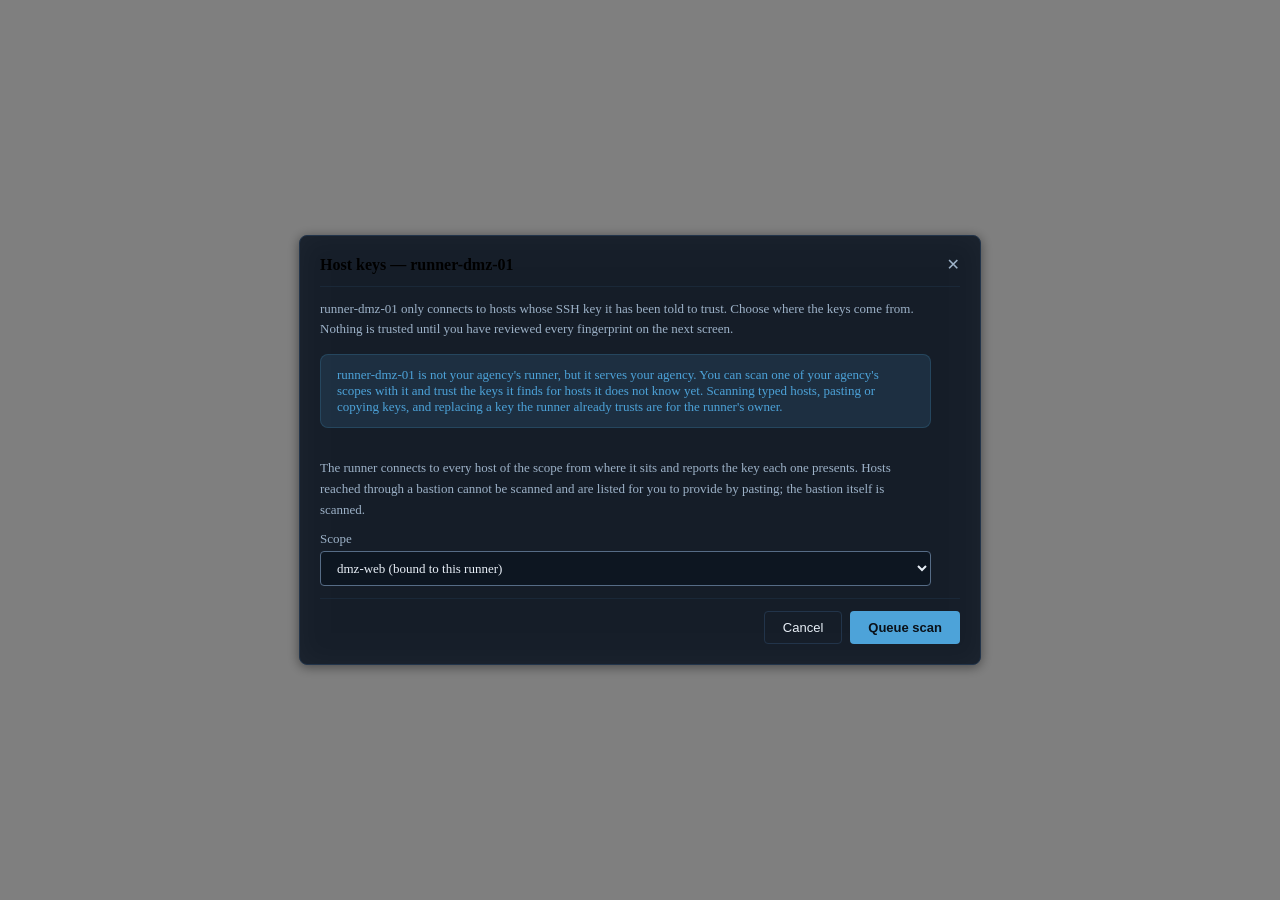
Test: the host keys dialog › in guest mode offers only a scope scan, and will not trust a key that replaces one
This screenshot has width=1280, height=900.
Expected: the text "is not your agency's runner, but it serves your agency" is shown, [337, 368, 879, 415]
Expected: the dropdown named "Scope to scan" shows "dmz-web (bound to this runner)", [320, 551, 931, 586]
Click the button "Queue scan".
click(905, 628)  # box [850, 611, 960, 644]
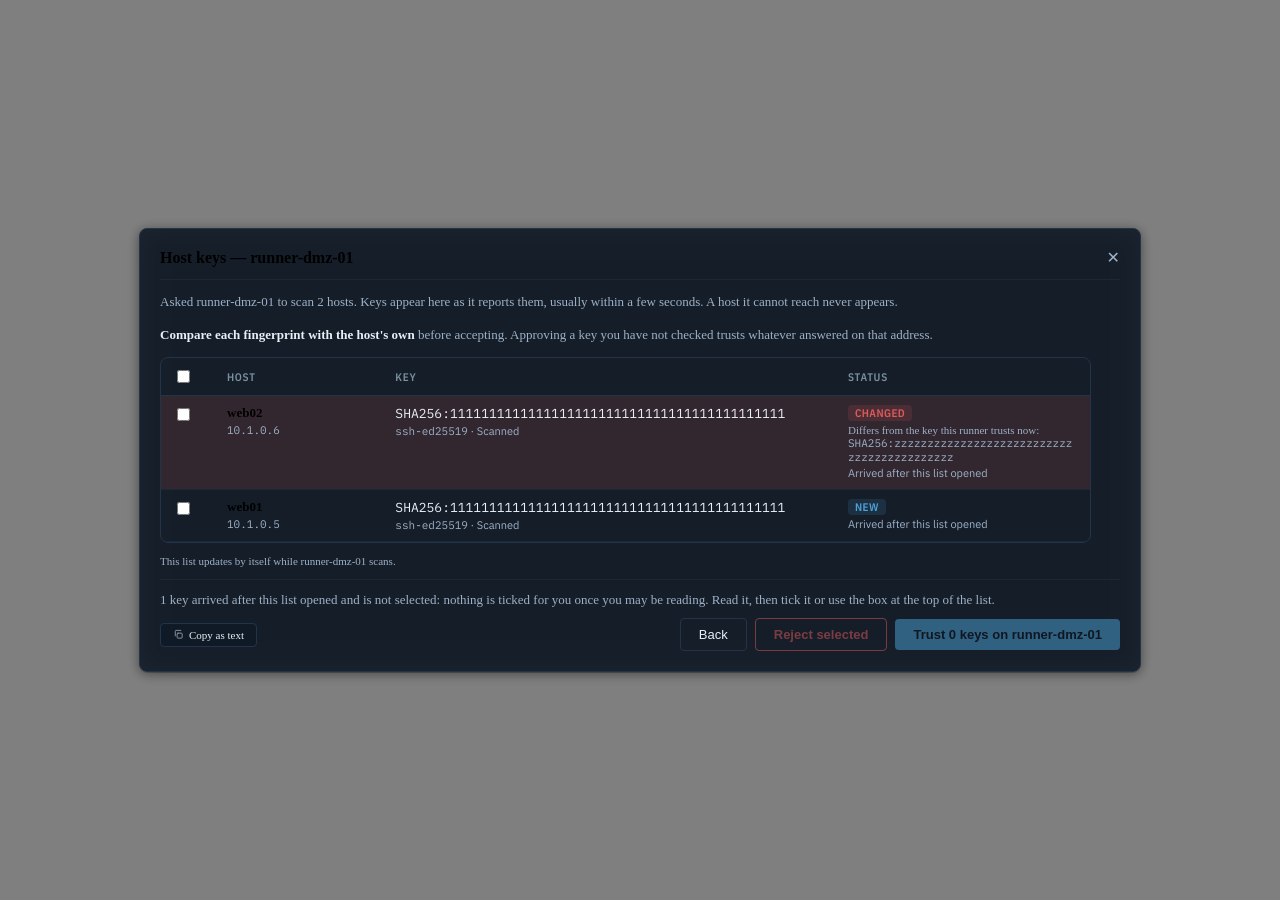
Expected: the text "web02" is shown, [227, 405, 262, 420]
Click the checkbox named "Select all keys except changed ones".
click(184, 377)  # box [177, 370, 190, 383]
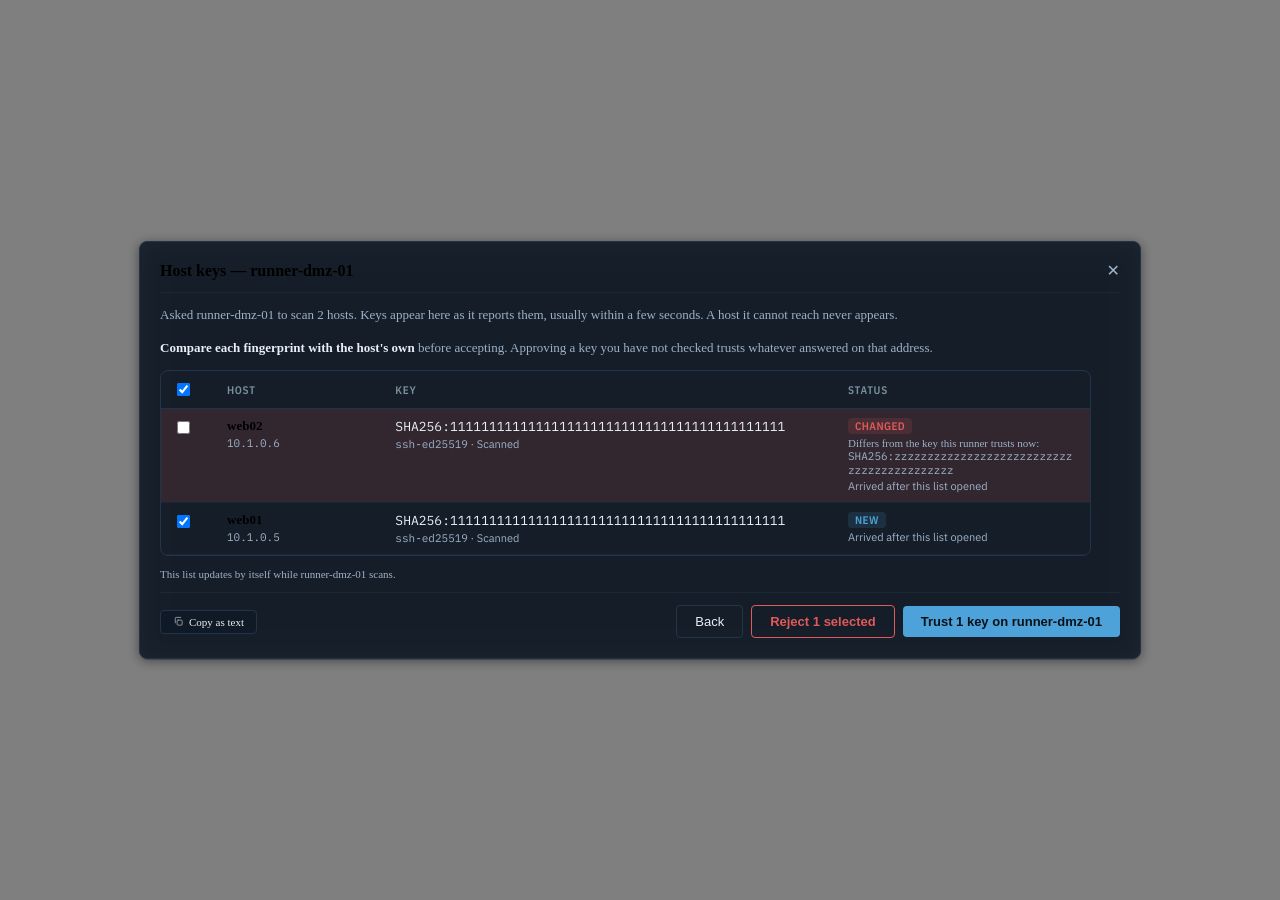
Click the checkbox named "Select web02 ssh-ed25519".
click(184, 428)  # box [177, 421, 190, 434]
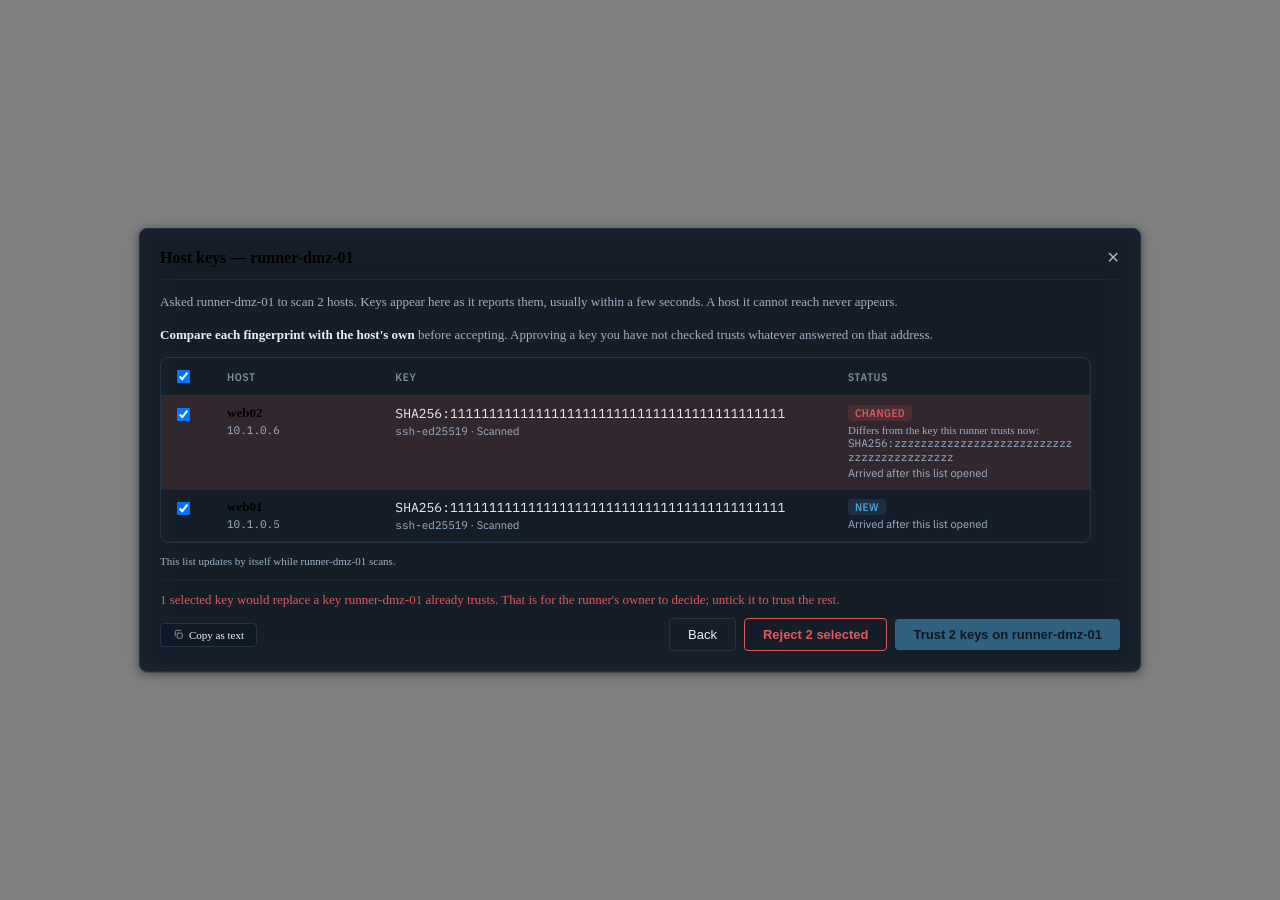
Expected: the text "would replace a key runner-dmz-01 already trusts. That is for the runner's owner" is shown, [160, 592, 840, 607]
Expected: the button "Trust 2 keys on runner-dmz-01" is disabled, [895, 619, 1120, 650]
